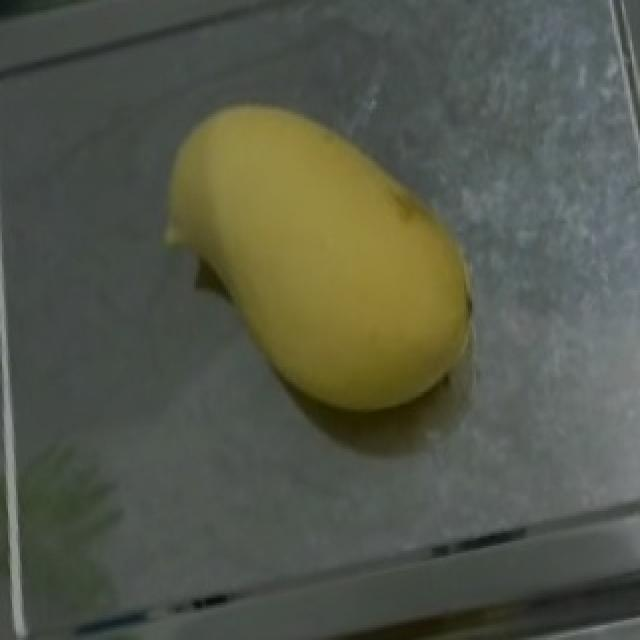fruit: (122, 47, 512, 447)
